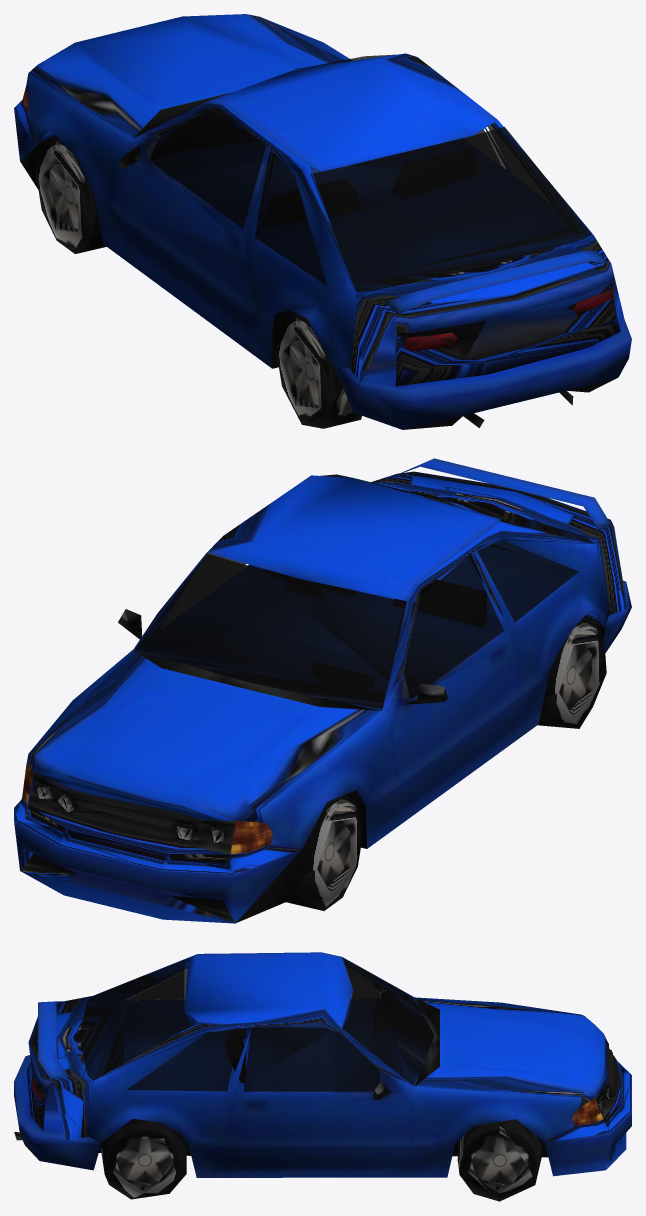
Rendered from c_coupe_lo.glb.
3 views of the same model, one above another, from view 1: azimuth 30°, elevation 25°; view 2: azimuth 150°, elevation 25°; view 3: azimuth 270°, elevation 25° (orthographic). The views are drawn at different scales.
Parts seen in each view (by area): view 1: body|Body_0, body|glass, body|Wheel_0, body|Optics_0; view 2: body|Body_0, body|glass, body|Wheel_0, body|Optics_0; view 3: body|Body_0, body|glass, body|Wheel_0, body|Optics_0.
Boxes of the visible parts, x1=… form: body|Body_0: x1=14, y1=14, x2=631, y2=429; body|glass: x1=150, y1=54, x2=591, y2=292; body|Wheel_0: x1=36, y1=137, x2=361, y2=428; body|Optics_0: x1=22, y1=86, x2=612, y2=351; body|Body_0: x1=14, y1=458, x2=631, y2=923; body|glass: x1=134, y1=474, x2=593, y2=710; body|Wheel_0: x1=286, y1=617, x2=606, y2=910; body|Optics_0: x1=22, y1=765, x2=272, y2=854; body|Body_0: x1=14, y1=952, x2=631, y2=1177; body|glass: x1=79, y1=957, x2=434, y2=1091; body|Wheel_0: x1=100, y1=1118, x2=543, y2=1201; body|Optics_0: x1=32, y1=1079, x2=608, y2=1126.
Size of the model in its own units: 1.88 by 1.27 by 4.2.
Materials: 4 (3 with a texture image).
